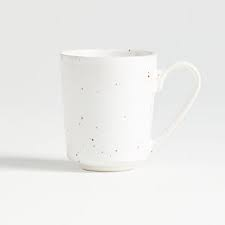cup: (52, 35, 205, 182)
